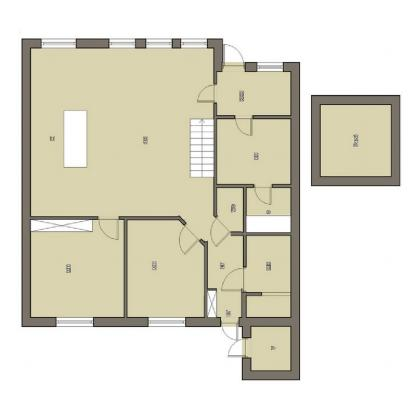door: (208, 216, 232, 248), (177, 223, 199, 256), (222, 270, 248, 294), (99, 216, 119, 244), (221, 43, 244, 66), (254, 184, 275, 208), (195, 83, 217, 104), (233, 115, 254, 137), (221, 319, 240, 341), (228, 337, 245, 360)
window: (40, 38, 78, 50), (56, 316, 93, 326), (149, 316, 185, 326), (147, 36, 171, 50), (108, 38, 134, 48), (181, 38, 207, 48), (259, 63, 282, 72)
zone: (30, 44, 243, 320), (30, 218, 123, 317), (128, 219, 206, 318), (319, 104, 392, 176), (217, 118, 292, 184), (244, 236, 292, 319), (216, 66, 291, 116), (245, 185, 292, 235), (246, 326, 292, 369)
